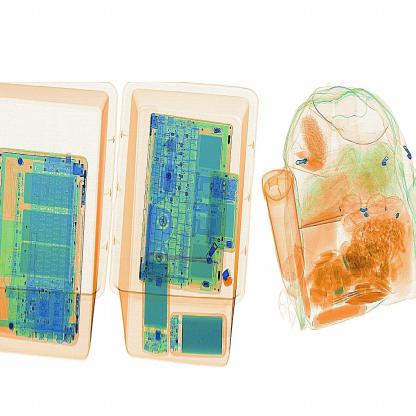wrench: (214, 259, 242, 289)
